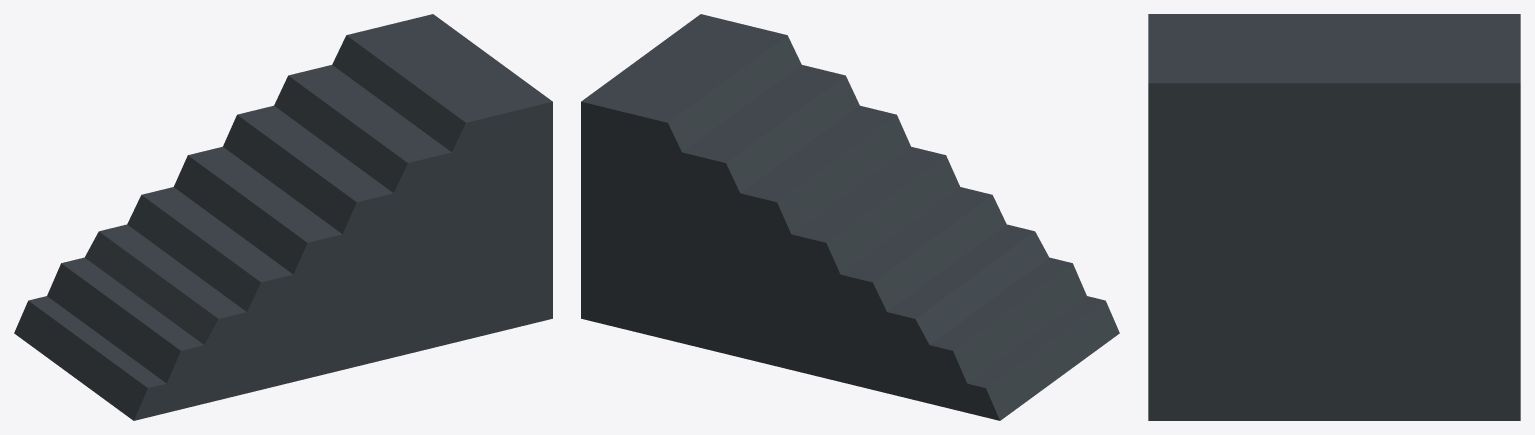
The model's file is RuinStairs04.fbx.
The picture shows the model from 3 angles, left to right: view 1: azimuth 30°, elevation 25°; view 2: azimuth 150°, elevation 25°; view 3: azimuth 270°, elevation 25°; orthographic projection. The views are drawn at different scales.
Visible parts, largest first — view 1: RuinStairs04; view 2: RuinStairs04; view 3: RuinStairs04.
Part boxes in pixels (<box>): RuinStairs04: <box>14,14,552,420</box>; RuinStairs04: <box>581,14,1119,420</box>; RuinStairs04: <box>1148,14,1520,420</box>.
Size of the model in its own units: 200 by 200 by 404.
